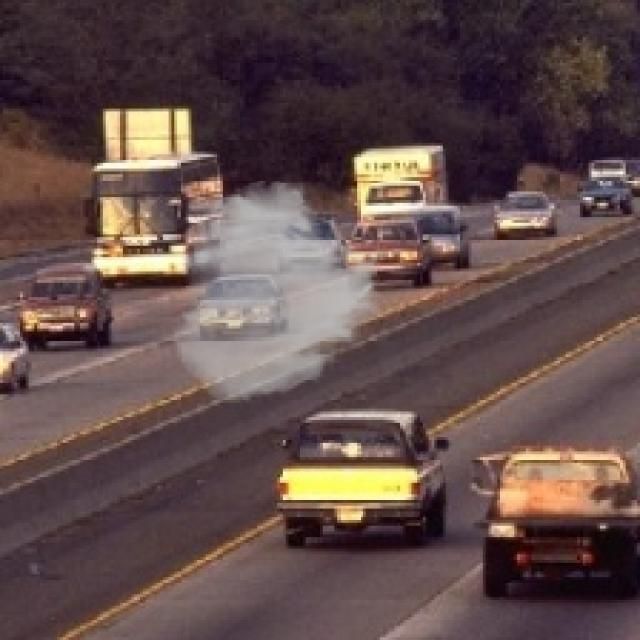Smoke: (172, 177, 388, 406)
